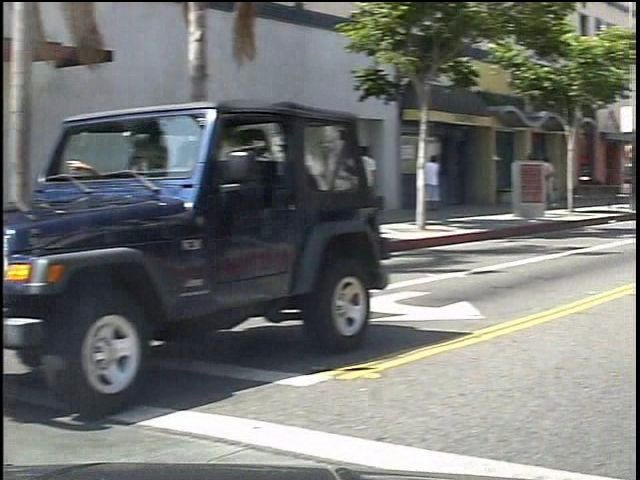person: (437, 145, 461, 228)
